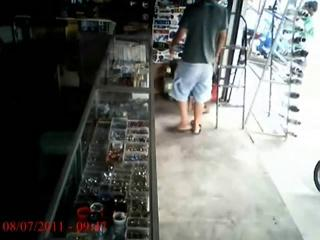Normal: (167, 0, 228, 134)
